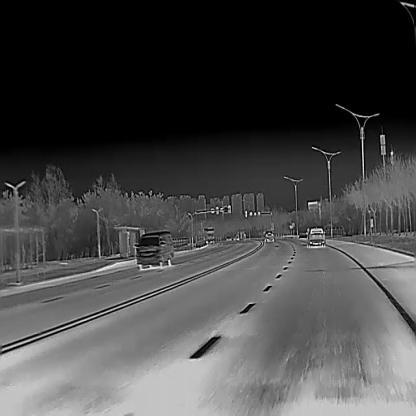car: (133, 230, 174, 269), (305, 226, 326, 247), (203, 227, 214, 243), (264, 229, 275, 241), (226, 235, 231, 240)
